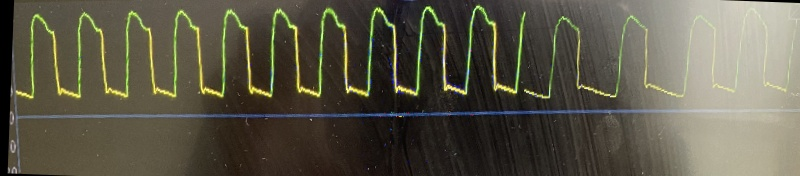normal_pressure: (8, 0, 783, 111)
